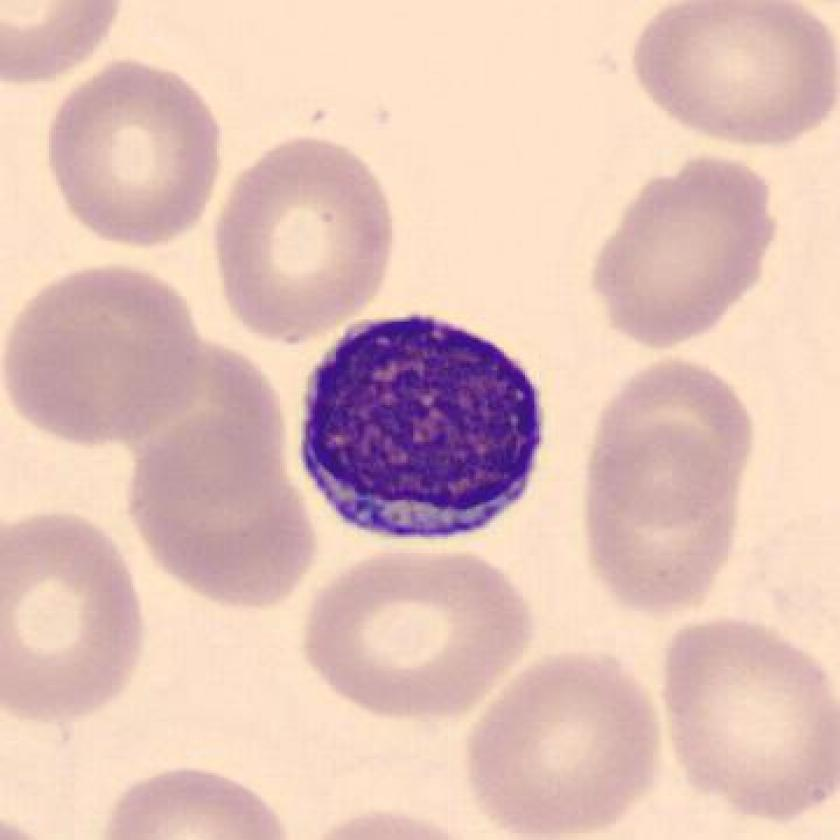lymphocyte: (288, 297, 556, 561)
